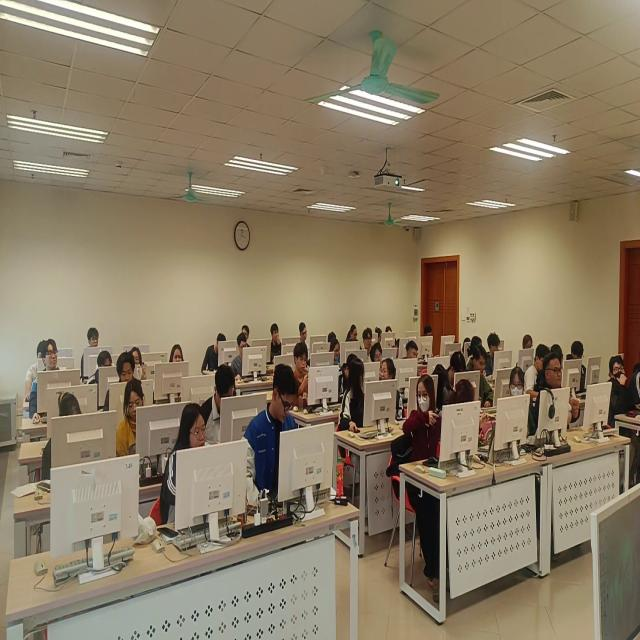raise_head: (535, 352, 582, 434), (30, 340, 60, 425), (605, 354, 633, 423), (81, 327, 100, 385), (269, 323, 283, 361), (170, 345, 185, 364), (371, 345, 385, 365), (363, 328, 374, 353)
using_computer: (241, 364, 301, 513), (161, 404, 208, 526), (199, 364, 238, 445), (115, 379, 146, 459), (104, 353, 137, 414), (468, 348, 494, 408), (26, 341, 49, 404), (566, 340, 591, 394), (525, 344, 551, 395), (201, 333, 227, 377), (336, 354, 358, 403), (87, 351, 115, 386), (449, 351, 468, 393), (231, 334, 248, 378), (432, 364, 449, 407), (485, 333, 501, 374), (630, 350, 640, 414), (59, 391, 83, 417), (403, 341, 419, 363), (423, 324, 436, 351), (329, 341, 341, 366), (131, 348, 144, 366), (346, 325, 359, 342), (392, 338, 401, 360), (300, 324, 309, 345), (385, 326, 395, 343), (524, 334, 534, 351), (471, 336, 484, 347), (377, 326, 384, 346), (463, 337, 471, 353), (327, 333, 337, 345)
using_phone: (291, 343, 314, 413)
